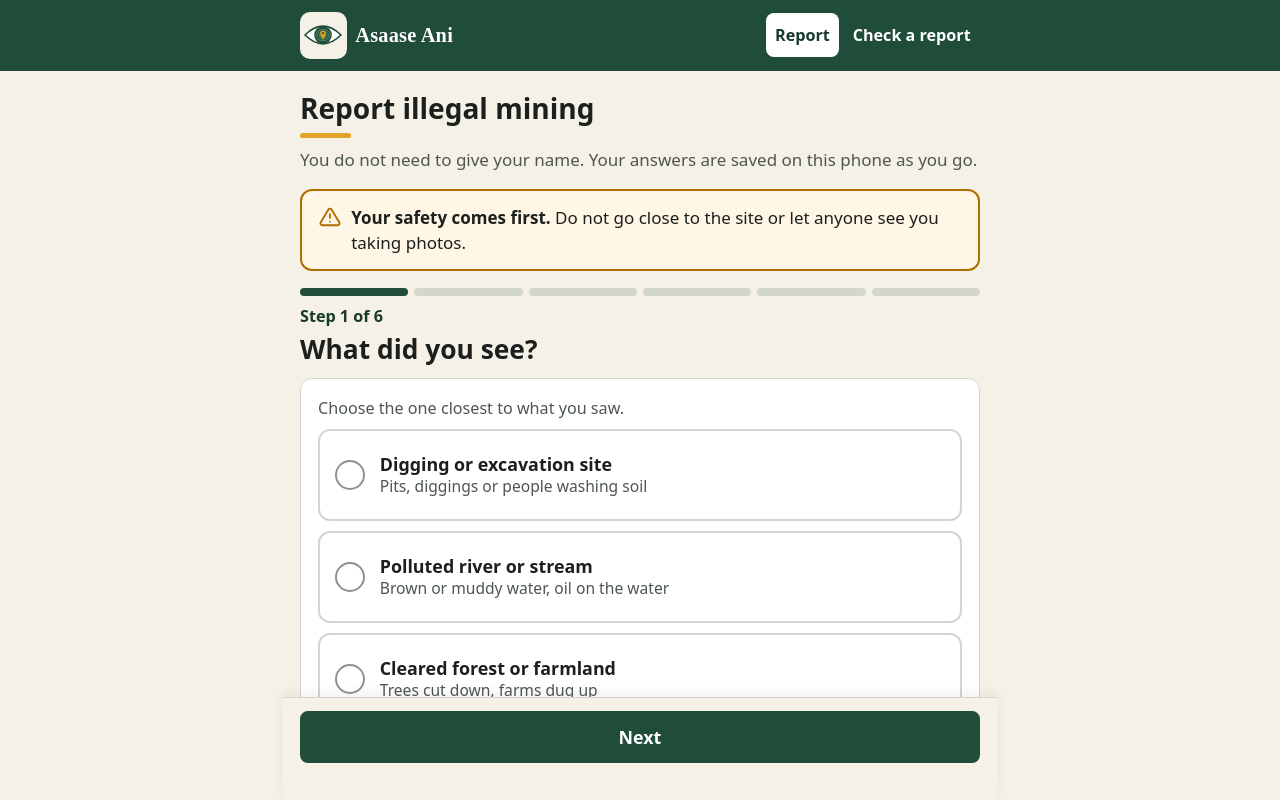
Test: App › goes to the tracking page and back, keeping what was typed in the report
Click the radio button labelled "Polluted river or stream": (640,577) x1=318 y1=531 x2=962 y2=623
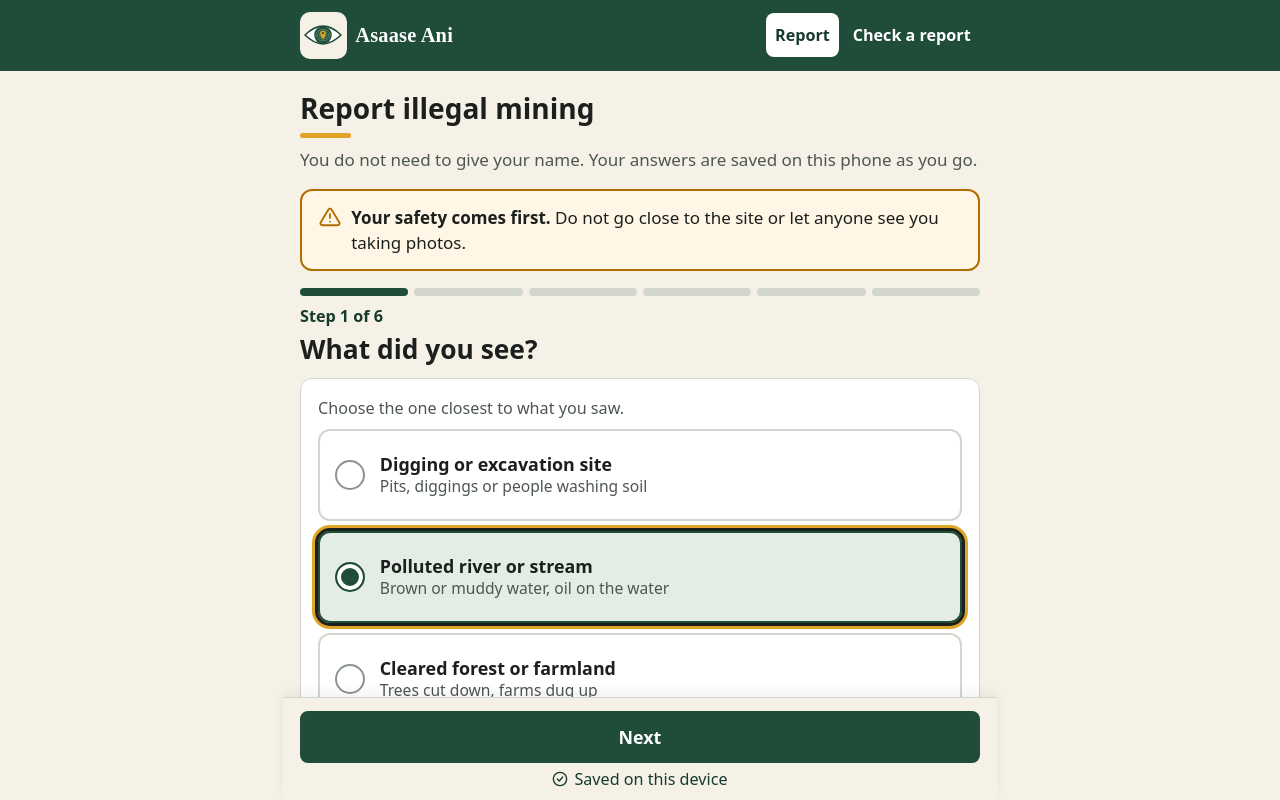
Click the link "Check a report": (912,35) x1=853 y1=24 x2=971 y2=46
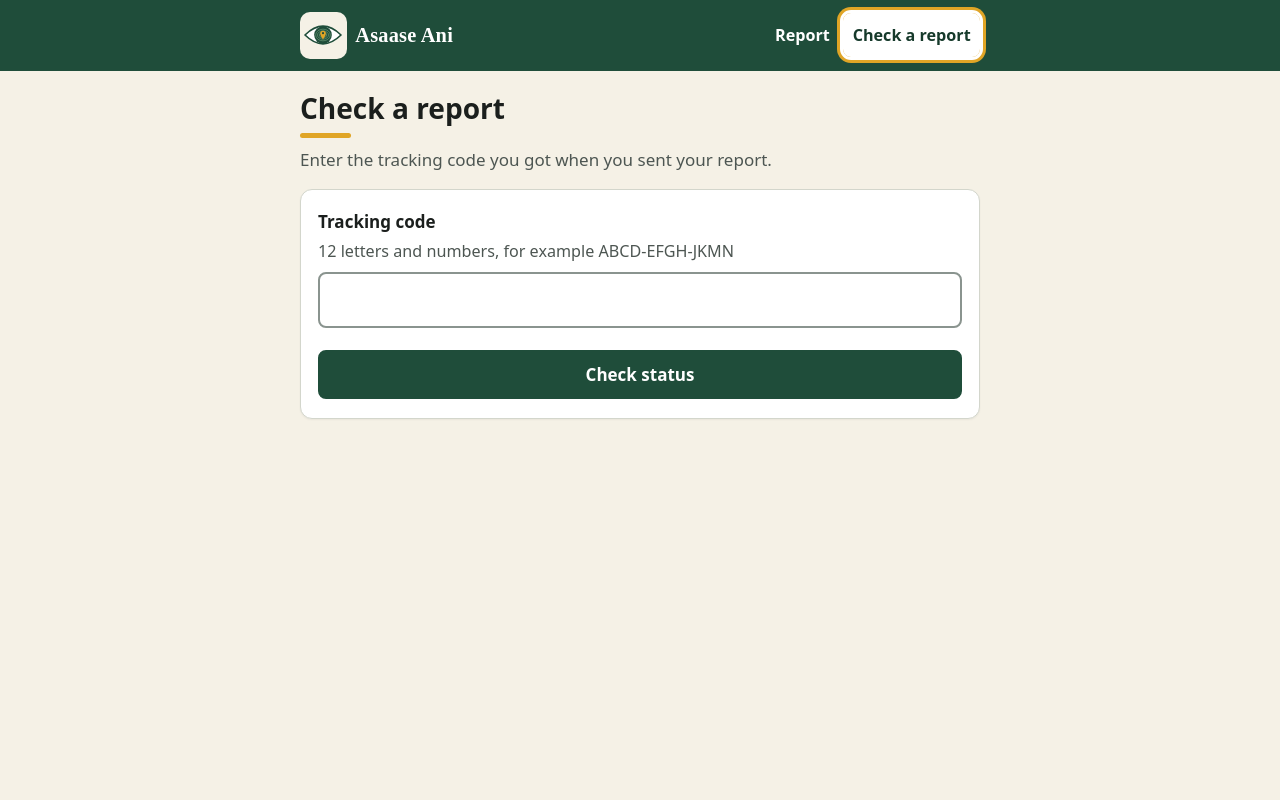
Expected: the heading "Check a report" is shown, x1=300 y1=89 x2=505 y2=127
Click the link "Report": (802,35) x1=775 y1=24 x2=830 y2=46
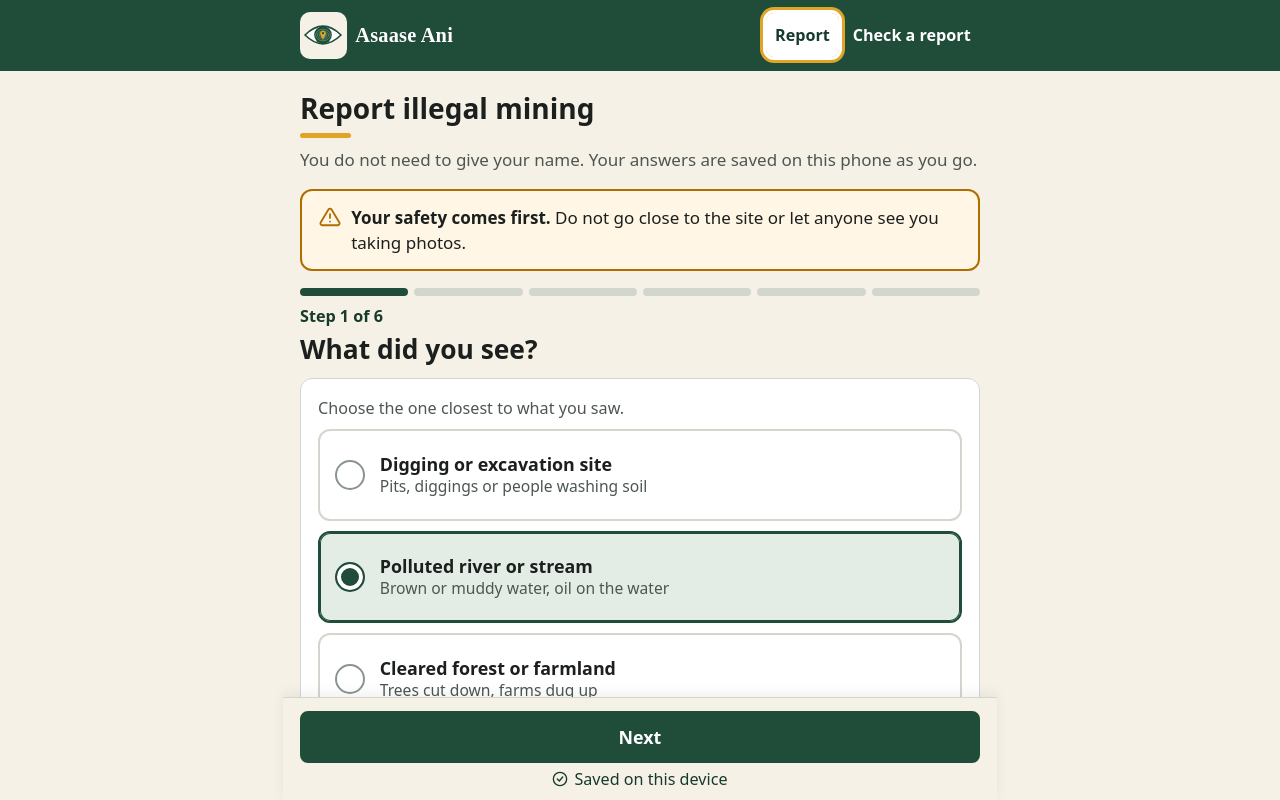
Expected: the radio button labelled "Polluted river or stream" is checked, x1=318 y1=531 x2=962 y2=623
